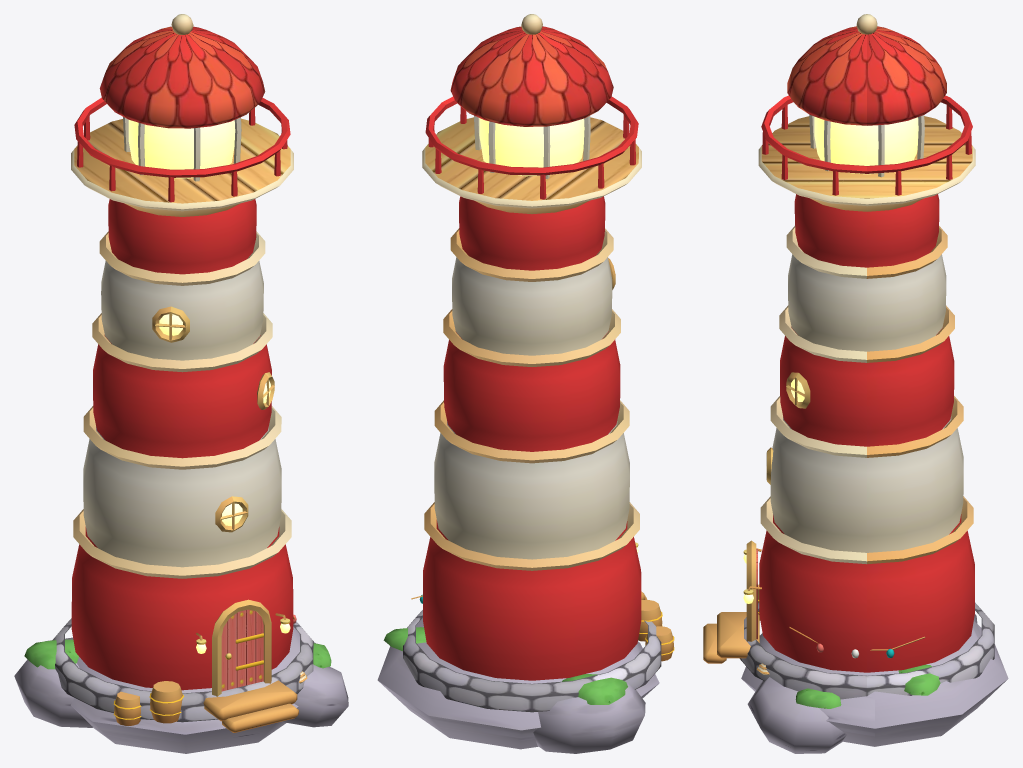
Rendered from lighthouse.glb.
3 views of the same model, side by side, from view 1: azimuth 30°, elevation 25°; view 2: azimuth 150°, elevation 25°; view 3: azimuth 270°, elevation 25° (orthographic). The views are drawn at different scales.
Visible parts, largest first — view 1: lighthouse; view 2: lighthouse; view 3: lighthouse.
Boxes of the visible parts, box(x1,y1,x2,y2) form: lighthouse: box(14, 14, 348, 753); lighthouse: box(377, 14, 674, 753); lighthouse: box(703, 14, 1008, 753).
Size of the model in its own units: 7.93 by 19.64 by 7.87.
4 materials, 4 textured.
